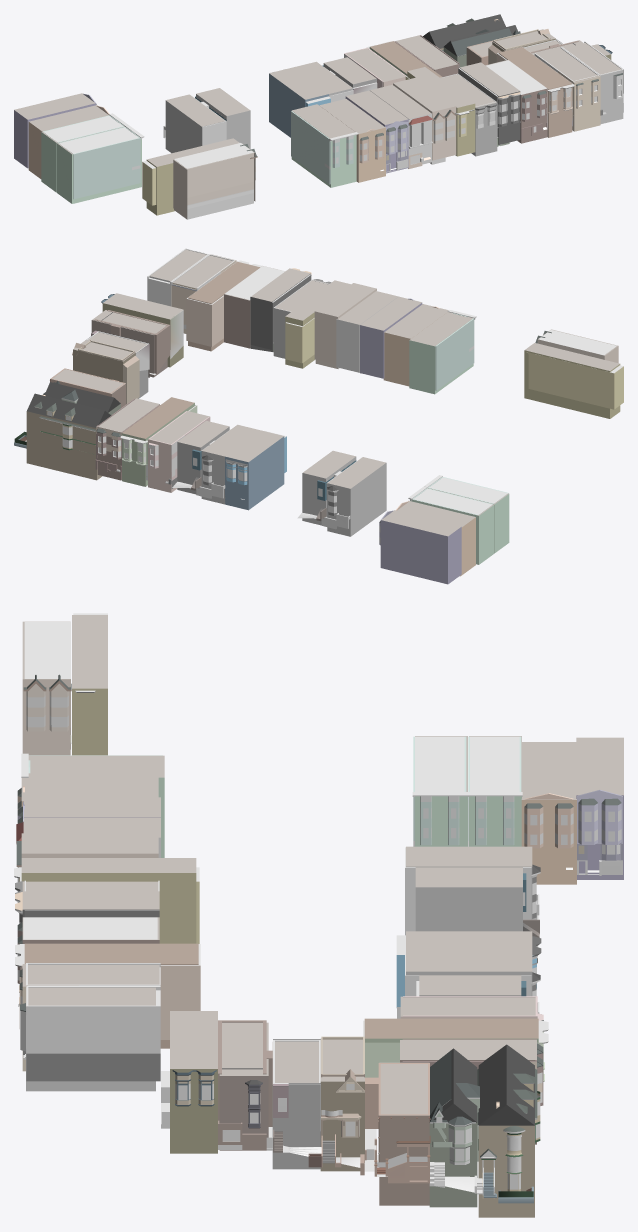
File: city_west7.dae
3 renders of one model, top to bottom at view 1: azimuth 30°, elevation 25°; view 2: azimuth 150°, elevation 25°; view 3: azimuth 270°, elevation 25°, orthographic. The views are drawn at different scales.
Visible parts, largest first — view 1: city_west7_a2000, city_west7_a3000; view 2: city_west7_a2000, city_west7_a3000; view 3: city_west7_a2000, city_west7_a3000.
Part boxes in pixels (<box>): city_west7_a2000: <box>14,14,623,217</box>; city_west7_a3000: <box>43,18,623,219</box>; city_west7_a2000: <box>26,249,620,584</box>; city_west7_a3000: <box>14,248,623,545</box>; city_west7_a2000: <box>21,615,623,1217</box>; city_west7_a3000: <box>14,613,622,1203</box>.
Bounding box in the file's own units: 171 × 106 × 40.75.
